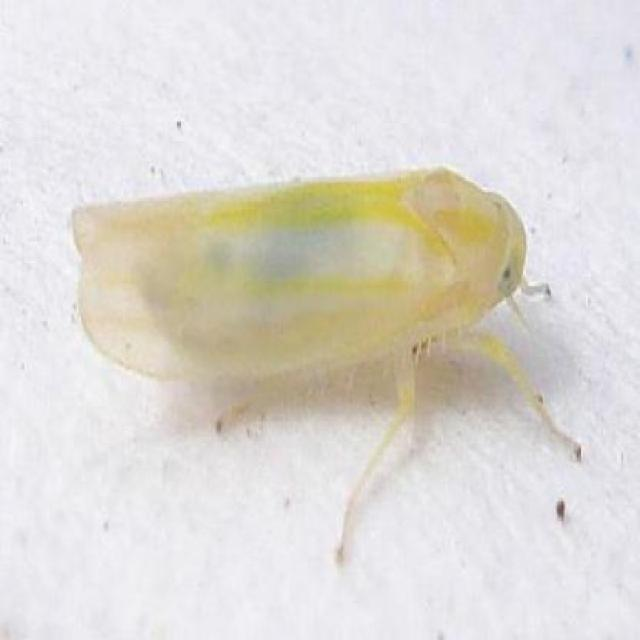green-leafhopper: (76, 164, 530, 370)
